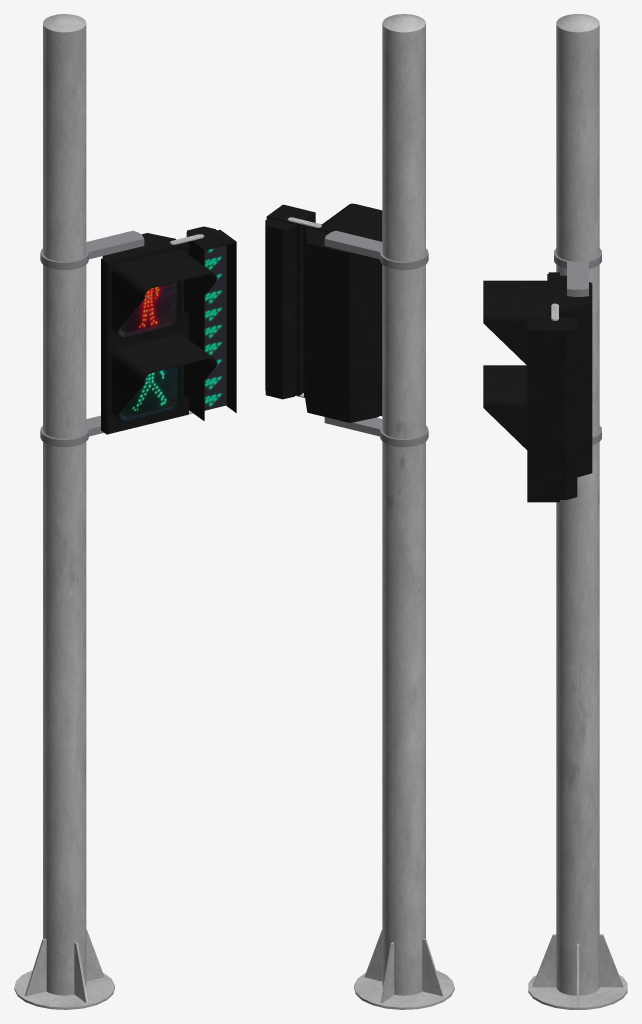
Rendered from prop_ped_light_01.glb.
3 renders of one model, left to right at view 1: azimuth 30°, elevation 25°; view 2: azimuth 150°, elevation 25°; view 3: azimuth 270°, elevation 25°, orthographic.
Parts seen in each view (by area): view 1: Cylinder005; view 2: Cylinder005; view 3: Cylinder005.
Part boxes in pixels (x1,y1,x2,y2): Cylinder005: [14, 14, 236, 1009]; Cylinder005: [265, 14, 454, 1009]; Cylinder005: [483, 14, 627, 1009].
Size of the model in its own units: 82.03 by 402 by 54.15.
1 material, 1 textured.
